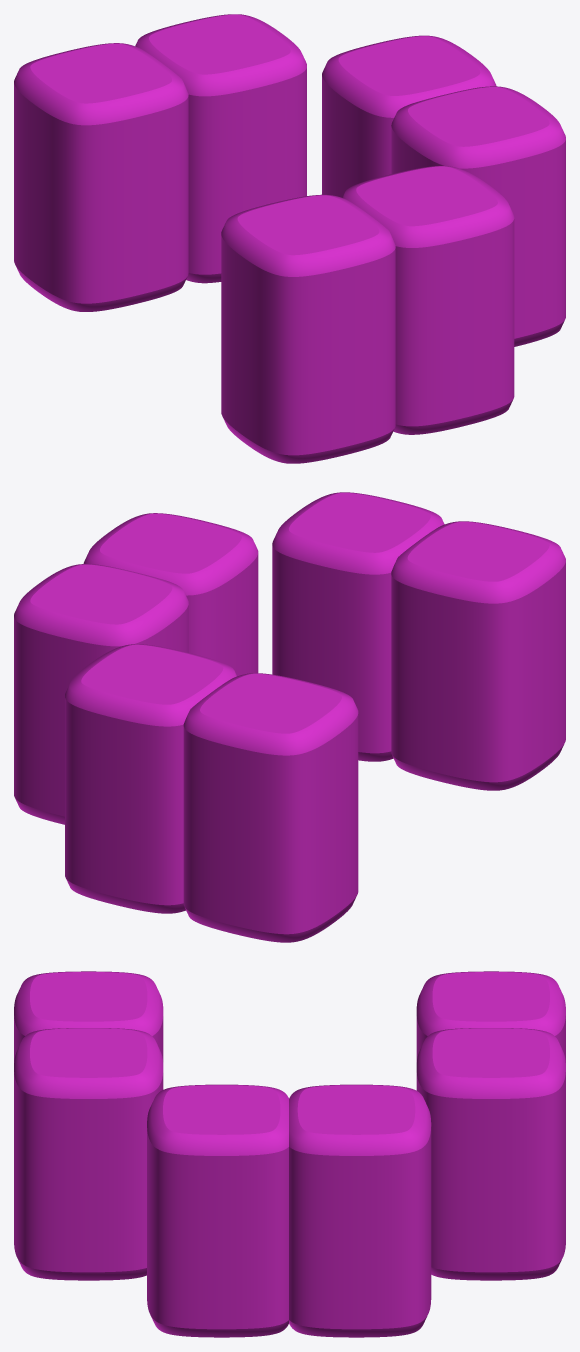
File: Letter_c_Small.fbx
3 renders of one model, top to bottom at view 1: azimuth 30°, elevation 25°; view 2: azimuth 150°, elevation 25°; view 3: azimuth 270°, elevation 25°, orthographic. The views are drawn at different scales.
Parts seen in each view (by area): view 1: Letter_c; view 2: Letter_c; view 3: Letter_c.
Boxes of the visible parts, bbox=[...] form: Letter_c: bbox=[14, 14, 565, 463]; Letter_c: bbox=[14, 492, 565, 942]; Letter_c: bbox=[14, 971, 565, 1337].
Bounding box in the file's own units: 0.2619 × 0.14 × 0.3465.
